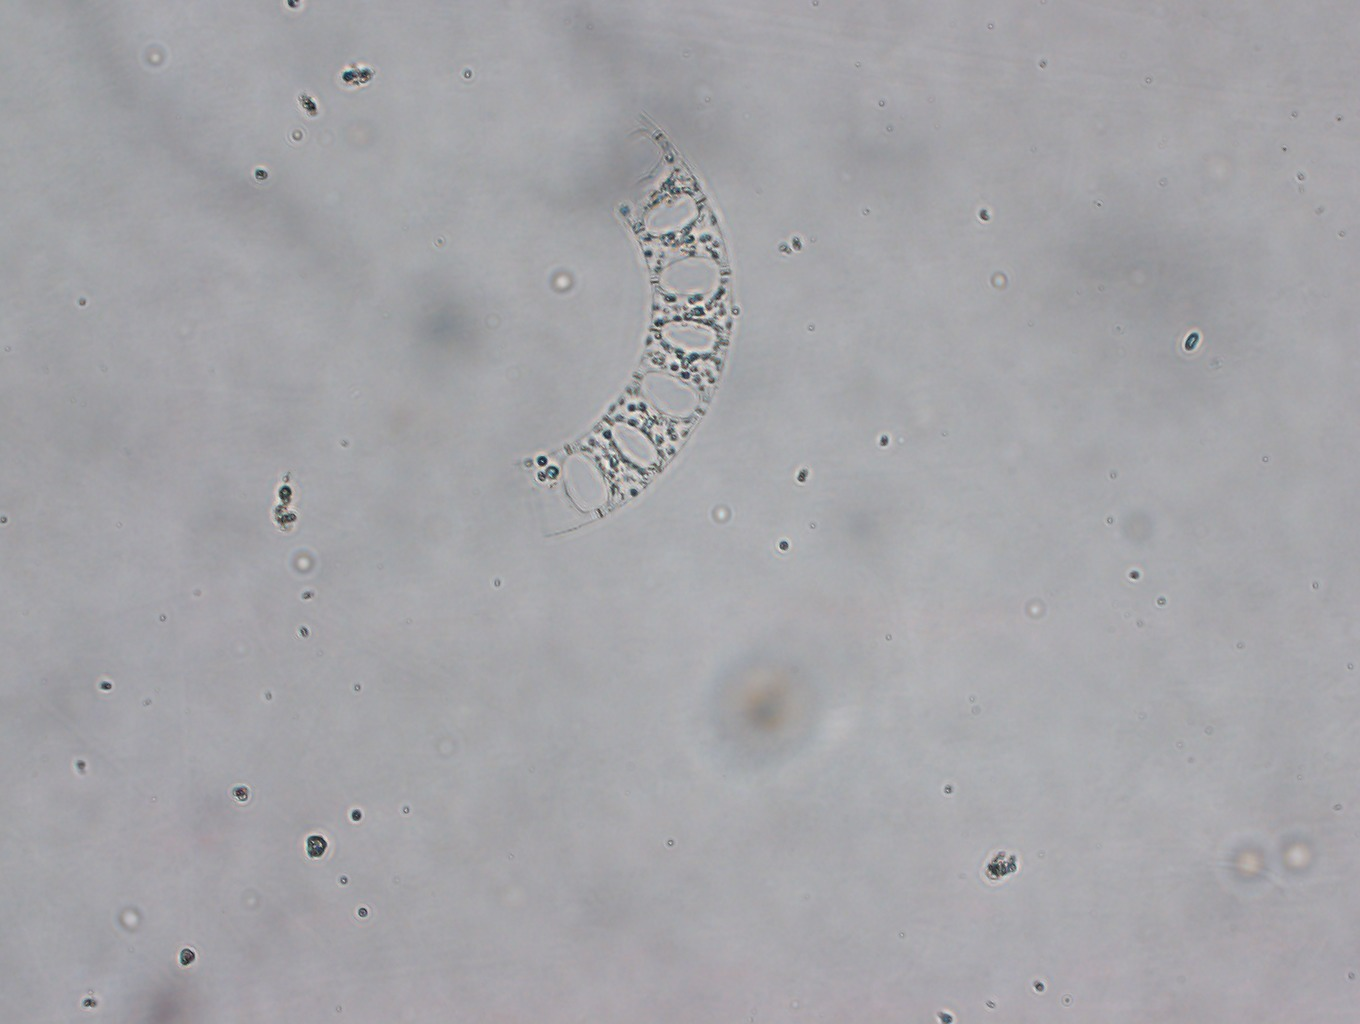eucampia: (510, 109, 734, 541)
